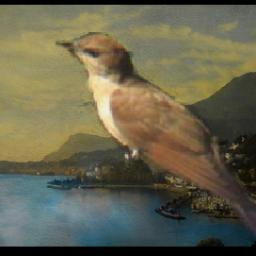Cuckoo: (57, 32, 256, 238)
